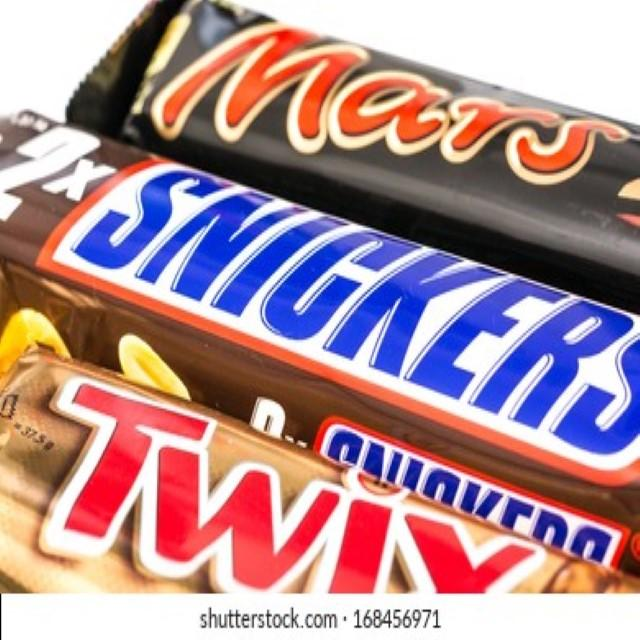mars_chocolate: (186, 0, 639, 256)
snickers_chocolate: (75, 123, 640, 507)
